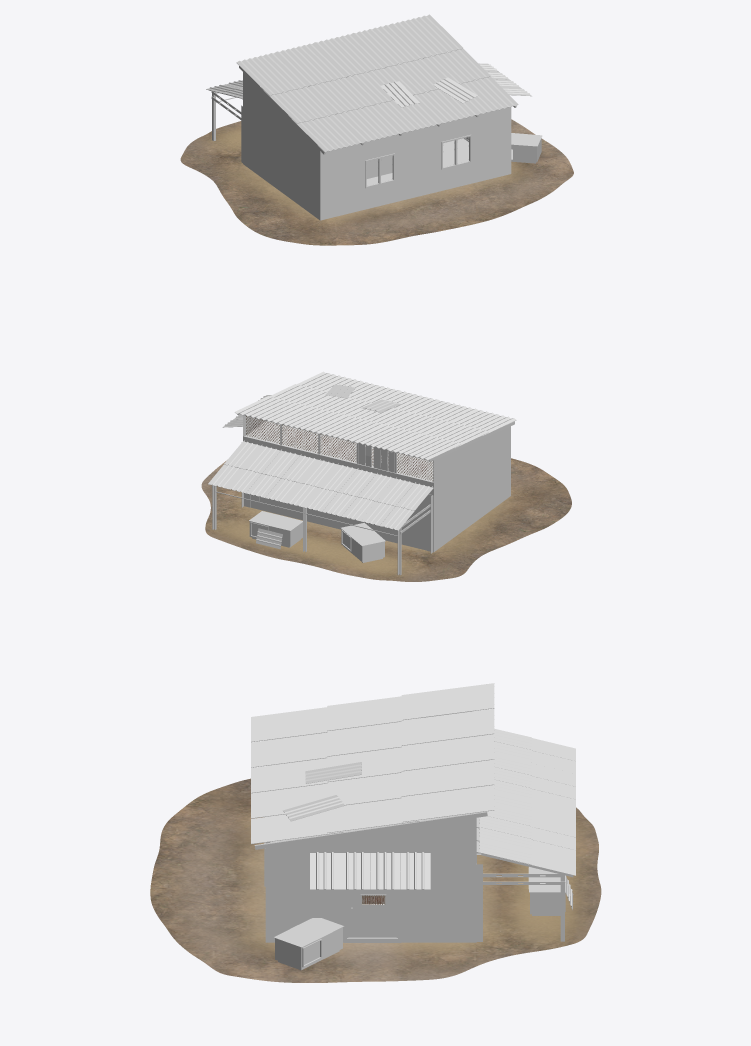
3 views of the same model, one above another, from view 1: azimuth 30°, elevation 25°; view 2: azimuth 150°, elevation 25°; view 3: azimuth 270°, elevation 25° (orthographic). The views are drawn at different scales.
Visible parts, largest first — view 1: Roof.003, Wall, Plane, Environments.004, Roof, Roof.002, Roof.001; view 2: Plane, Roof.003, Wall, Roof.004, Woods.009, Woods, Environments.003, Environments.002, Irons; view 3: Plane, Roof.003, Wall, Roof.004, Roof, Environments.004, Environments.001, Woods, Environments.002, Roof.001, Roof.002, Woods.005.
Part boxes in pixels (<box>): Roof.003: <box>236,14,518,152</box>; Wall: <box>243,72,511,220</box>; Plane: <box>180,119,573,245</box>; Environments.004: <box>511,133,542,163</box>; Roof: <box>478,63,531,96</box>; Roof.002: <box>433,77,477,103</box>; Roof.001: <box>380,81,419,107</box>; Plane: <box>201,458,571,581</box>; Roof.003: <box>235,371,516,460</box>; Wall: <box>243,415,510,552</box>; Roof.004: <box>208,441,433,530</box>; Woods.009: <box>246,421,433,481</box>; Woods: <box>237,413,514,472</box>; Environments.003: <box>341,523,385,562</box>; Environments.002: <box>249,511,302,547</box>; Irons: <box>212,484,401,575</box>; Plane: <box>150,778,601,982</box>; Roof.003: <box>251,683,494,844</box>; Wall: <box>265,711,476,942</box>; Roof.004: <box>479,728,575,875</box>; Roof: <box>310,852,430,889</box>; Environments.004: <box>273,918,344,970</box>; Environments.001: <box>347,874,397,938</box>; Woods: <box>254,711,487,849</box>; Environments.002: <box>528,867,565,915</box>; Roof.001: <box>305,762,361,783</box>; Roof.002: <box>282,795,344,821</box>; Woods.005: <box>343,872,401,942</box>.
Bounding box in the file's own units: 4800 × 987 × 4800.
